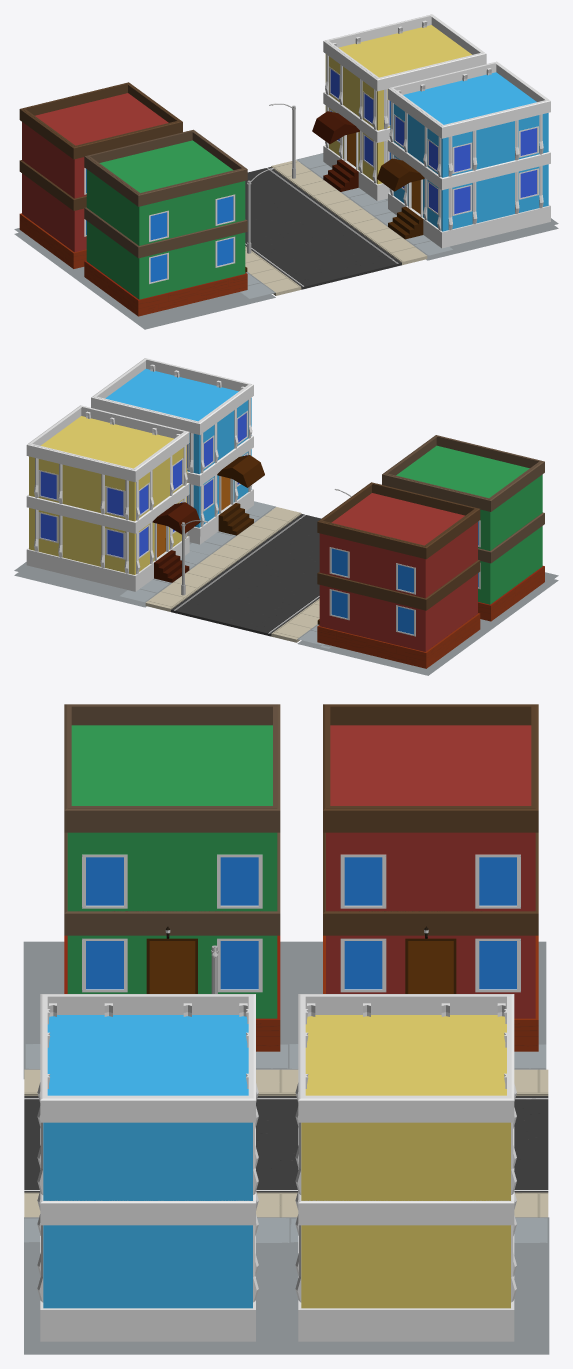
Rendered from CityPt10.fbx.
3 renders of one model, top to bottom at view 1: azimuth 30°, elevation 25°; view 2: azimuth 150°, elevation 25°; view 3: azimuth 270°, elevation 25°, orthographic. The views are drawn at different scales.
Visible parts, largest first — view 1: Ed12.003, Ed13.003, Ed14.002, Ed11.002, Street.002; view 2: Ed14.002, Ed11.002, Ed13.003, Ed12.003, Street.002; view 3: Ed13.003, Ed14.002, Ed12.003, Ed11.002, Street.002.
Part boxes in pixels (left/top/right/bottom): Ed12.003: left=79, top=129, right=275, bottom=329; Ed13.003: left=361, top=61, right=558, bottom=260; Ed14.002: left=296, top=14, right=486, bottom=206; Ed11.002: left=14, top=82, right=182, bottom=281; Street.002: left=245, top=160, right=427, bottom=295; Ed14.002: left=14, top=405, right=209, bottom=607; Ed11.002: left=297, top=482, right=492, bottom=675; Ed13.003: left=91, top=358, right=275, bottom=555; Ed12.003: left=382, top=435, right=558, bottom=628; Street.002: left=145, top=507, right=320, bottom=642; Ed13.003: left=24, top=994, right=291, bottom=1354; Ed14.002: left=290, top=994, right=549, bottom=1354; Ed12.003: left=23, top=704, right=287, bottom=1078; Ed11.002: left=288, top=704, right=546, bottom=1069; Street.002: left=24, top=1069, right=548, bottom=1217.
Size of the model in its own units: 27.34 by 7.95 by 15.04.
